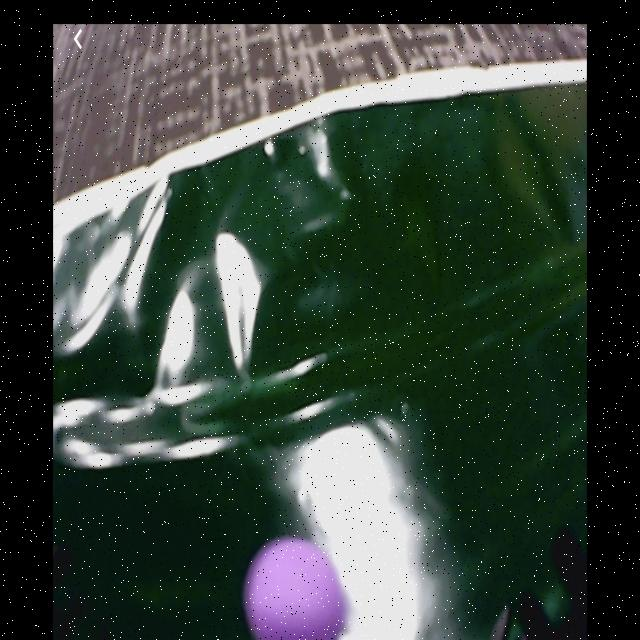ball: (246, 539, 349, 639)
